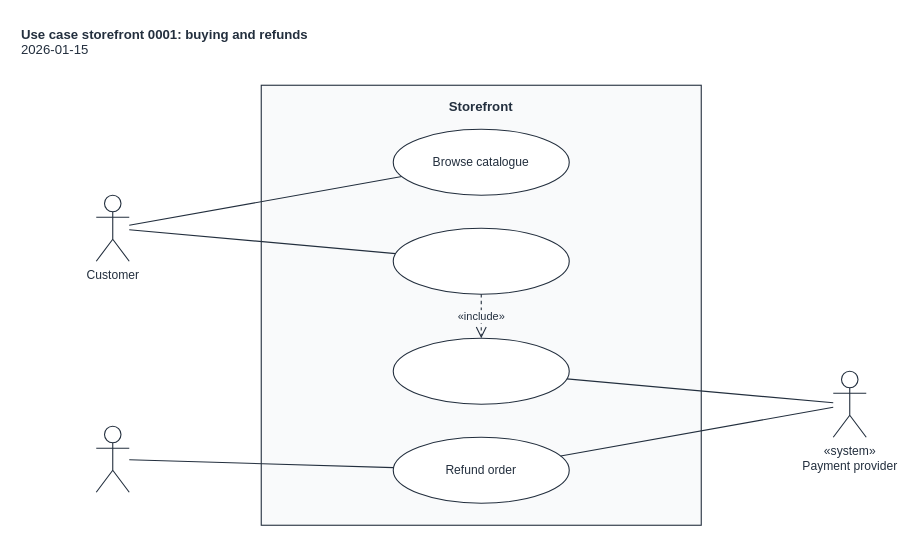
This 915x545 diagram has some shape labels left out. Each missing label, with the centre of its shape:
Pay for order: point (480, 370)
Place order: point (480, 260)
Support agent: point (112, 458)
